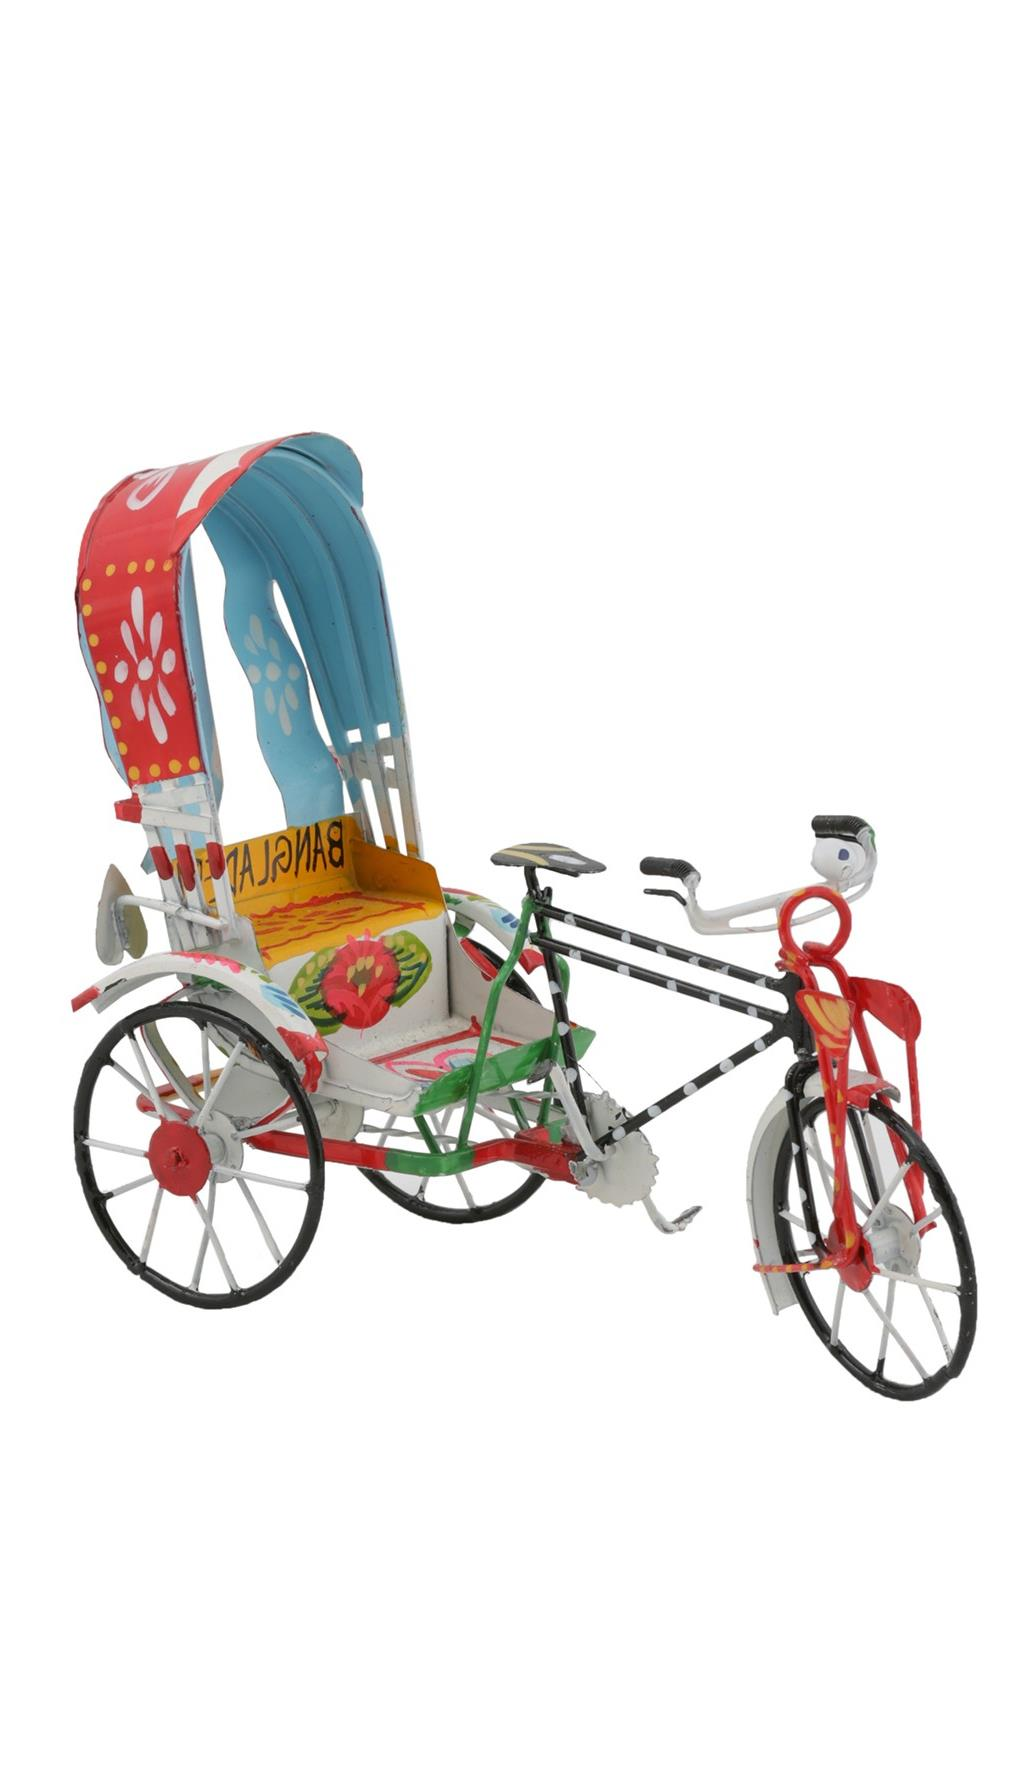Rickshaw: (48, 409, 1002, 1404)
